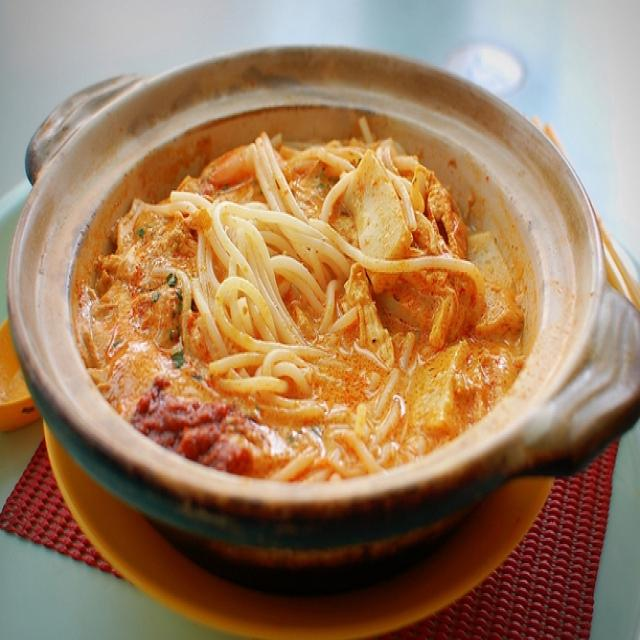面条主食: (29, 31, 612, 530)
